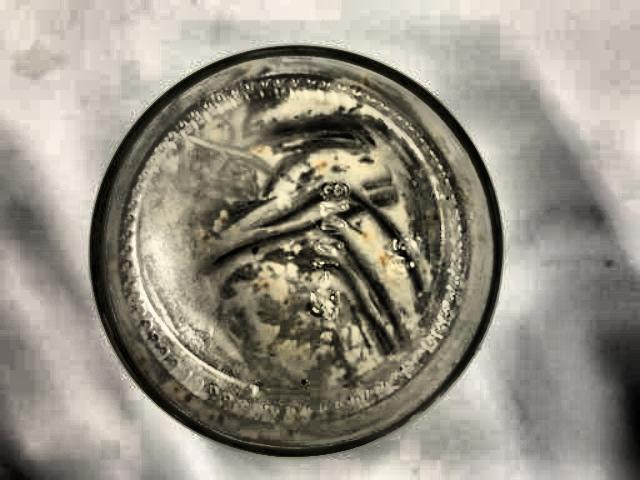Almennt: (73, 20, 541, 480)
